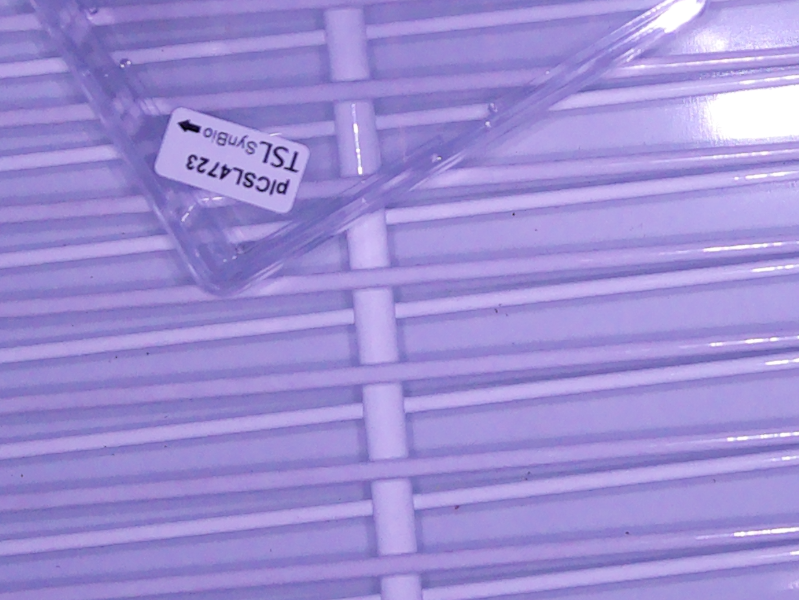plate: (31, 1, 701, 294)
